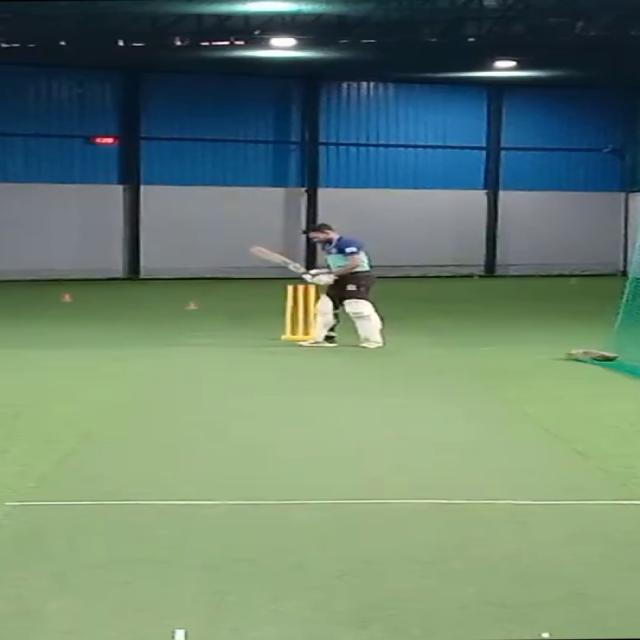stump: (278, 282, 316, 341)
